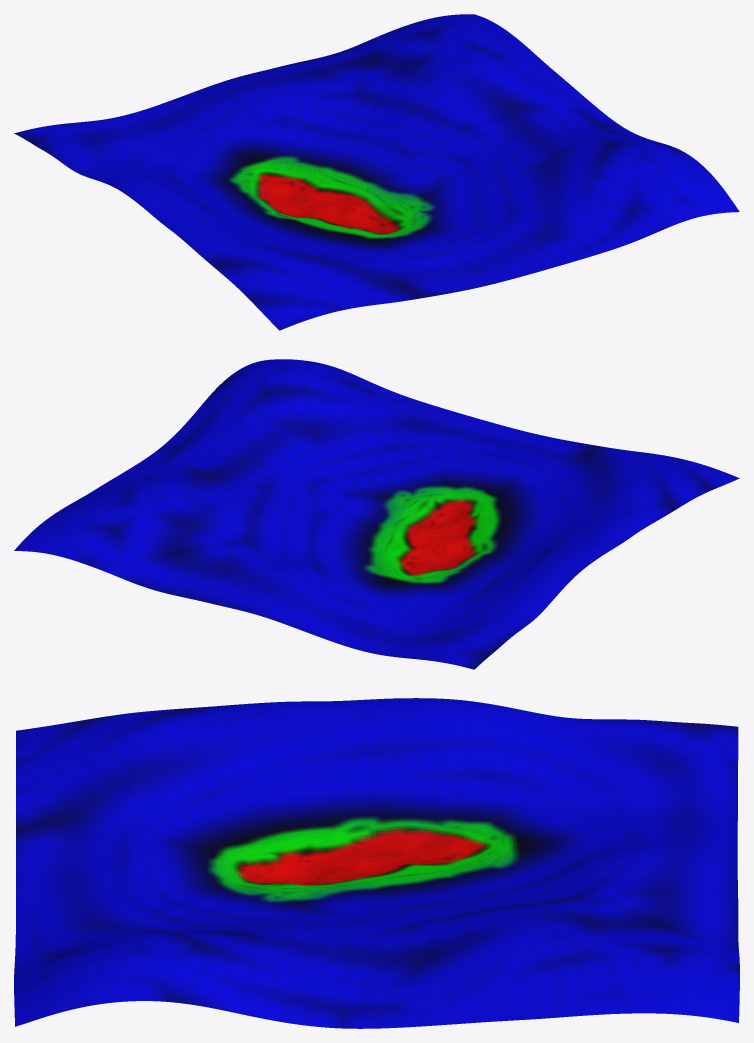
Rendered from landscape.fbx.
The picture shows the model from 3 angles, top to bottom: view 1: azimuth 30°, elevation 25°; view 2: azimuth 150°, elevation 25°; view 3: azimuth 270°, elevation 25°; orthographic projection. The views are drawn at different scales.
Parts seen in each view (by area): view 1: pPlane1; view 2: pPlane1; view 3: pPlane1.
Boxes of the visible parts, x1,y1,x2,y2 form: pPlane1: (14, 14, 739, 330); pPlane1: (14, 359, 739, 669); pPlane1: (14, 698, 739, 1028).
Size of the model in its own units: 40.17 by 4.74 by 40.23.
